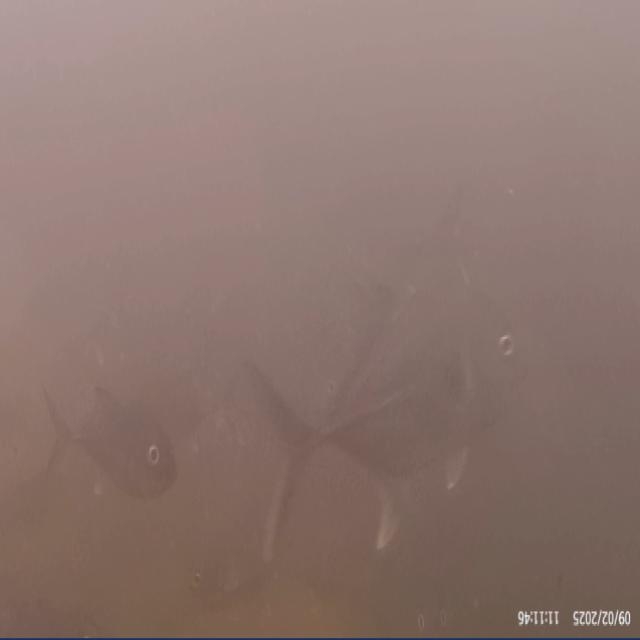ikan: (230, 232, 530, 597), (40, 378, 178, 501)
